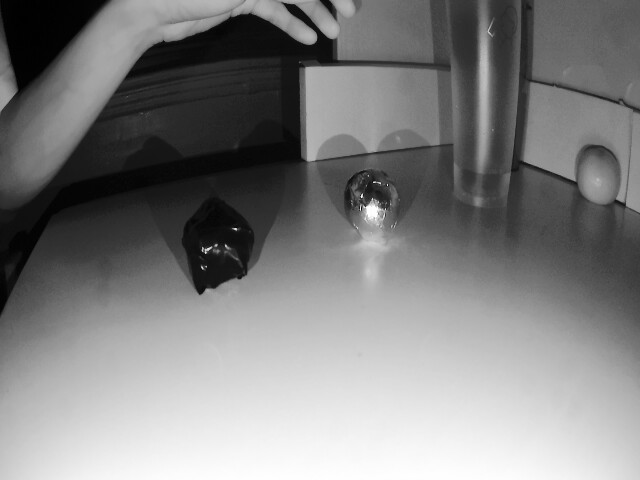black: (183, 196, 258, 286)
silver: (345, 163, 401, 240)
